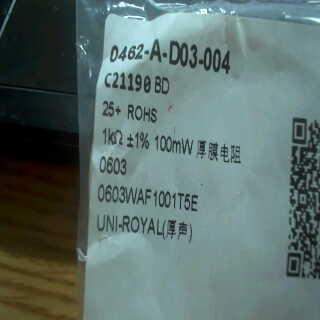1kR: (99, 125, 126, 152)
